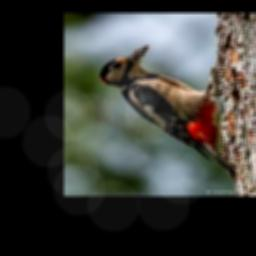Woodpecker: (100, 45, 237, 180)
